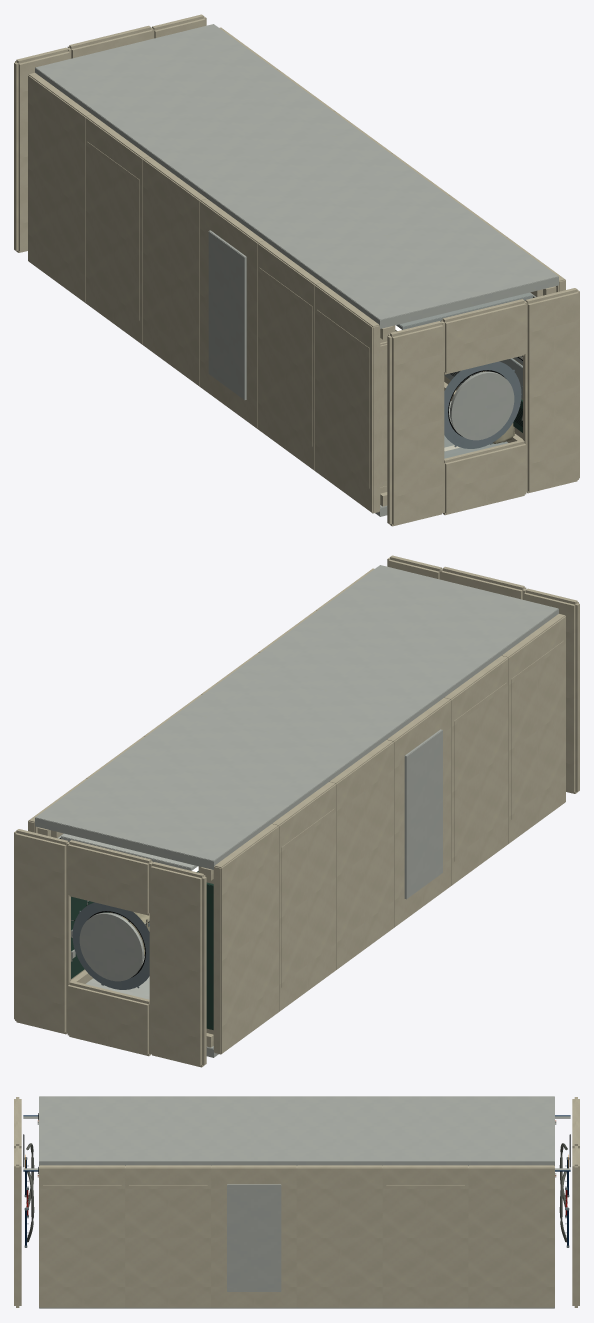
Rendered from zvezda.glb.
3 views of the same model, one above another, from view 1: azimuth 30°, elevation 25°; view 2: azimuth 150°, elevation 25°; view 3: azimuth 270°, elevation 25° (orthographic). The views are drawn at different scales.
Visible parts, largest first — view 1: zvezda_detailed; view 2: zvezda_detailed; view 3: zvezda_detailed.
Part boxes in pixels (x1,y1,x2,y2): zvezda_detailed: [14, 14, 579, 526]; zvezda_detailed: [14, 555, 579, 1067]; zvezda_detailed: [14, 1096, 579, 1308].
Size of the model in its own units: 3.16 by 3 by 10.44.
22 materials, 16 textured.
